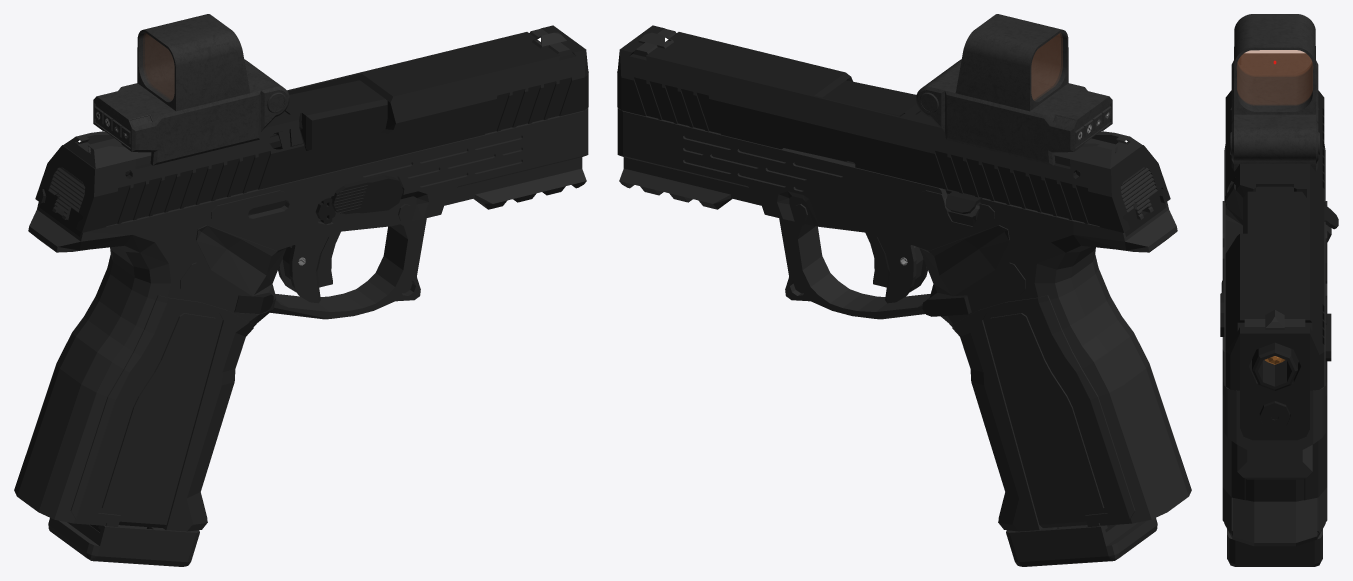
Rendered from Pistol.glb.
The picture shows the model from 3 angles, left to right: view 1: azimuth 30°, elevation 25°; view 2: azimuth 150°, elevation 25°; view 3: azimuth 270°, elevation 25°; orthographic projection. The views are drawn at different scales.
Visible parts, largest first — view 1: steyrm9 frame_6, Slide, Holosight, Magazine, Holosightglass; view 2: steyrm9 frame_6, Slide, Holosight, Magazine, Holosightglass; view 3: Slide, steyrm9 frame_6, Holosight, Holosightglass, Magazine.
Part boxes in pixels (<box>): steyrm9 frame_6: <box>14,71,588,531</box>; Slide: <box>35,25,588,232</box>; Holosight: <box>93,14,289,165</box>; Magazine: <box>48,213,257,566</box>; Holosightglass: <box>143,33,174,100</box>; steyrm9 frame_6: <box>617,71,1191,531</box>; Slide: <box>617,25,1170,232</box>; Holosight: <box>916,14,1112,165</box>; Magazine: <box>1006,518,1157,566</box>; Holosightglass: <box>1031,33,1062,100</box>; Slide: <box>1225,90,1324,440</box>; steyrm9 frame_6: <box>1220,144,1338,546</box>; Holosight: <box>1230,14,1319,171</box>; Holosightglass: <box>1237,50,1312,104</box>; Magazine: <box>1227,529,1322,566</box>.
Bounding box in the file's own units: 1.89 × 1.69 × 0.3309.
9 materials, 1 textured.
